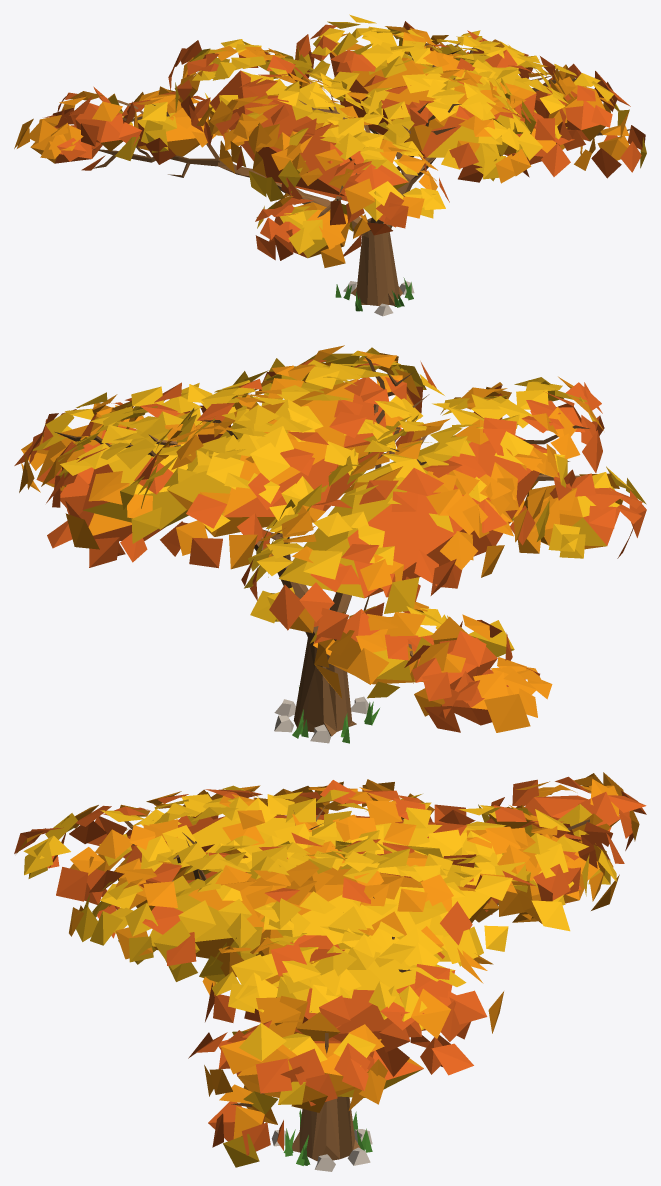
File: guayacan_4_autumn.glb
3 views of the same model, one above another, from view 1: azimuth 30°, elevation 25°; view 2: azimuth 150°, elevation 25°; view 3: azimuth 270°, elevation 25° (orthographic). The views are drawn at different scales.
Visible parts, largest first — view 1: guayacan_4_autumn; view 2: guayacan_4_autumn; view 3: guayacan_4_autumn.
Part boxes in pixels (box(x1,y1,x2,y2)): guayacan_4_autumn: box(14, 14, 646, 316); guayacan_4_autumn: box(14, 345, 646, 743); guayacan_4_autumn: box(14, 772, 646, 1171).
Bounding box in the file's own units: 12.47 × 5.66 × 10.23.
